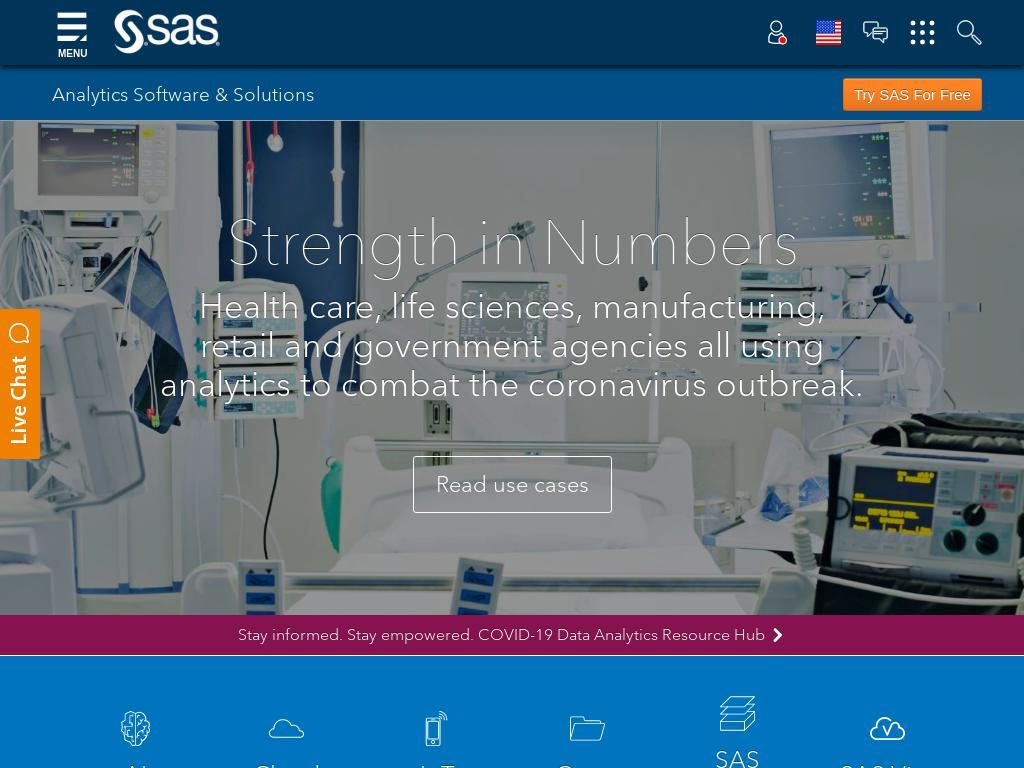button: (60, 656, 212, 768), (511, 656, 663, 768), (812, 656, 964, 768), (211, 656, 362, 768), (361, 656, 512, 768), (662, 656, 813, 768), (222, 626, 803, 643), (0, 309, 40, 459), (412, 478, 612, 495)
heading: (160, 285, 864, 405), (225, 205, 799, 280), (52, 82, 314, 106), (672, 745, 803, 768), (70, 759, 202, 768), (521, 759, 653, 768), (822, 759, 954, 768), (221, 759, 352, 768), (371, 759, 502, 768)
image: (107, 0, 227, 60), (3, 316, 34, 451), (118, 710, 154, 746), (268, 710, 304, 746), (419, 710, 455, 746), (569, 710, 605, 746), (870, 710, 906, 746), (720, 696, 756, 731)
text: (0, 115, 1024, 615), (0, 656, 1024, 768), (0, 615, 1024, 655), (222, 615, 802, 655), (412, 456, 612, 513), (843, 78, 982, 111)
